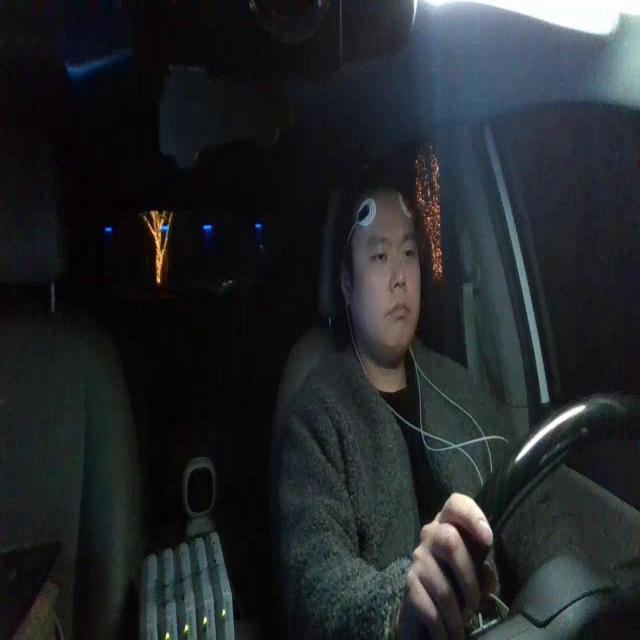Attentive: (332, 176, 423, 362)
